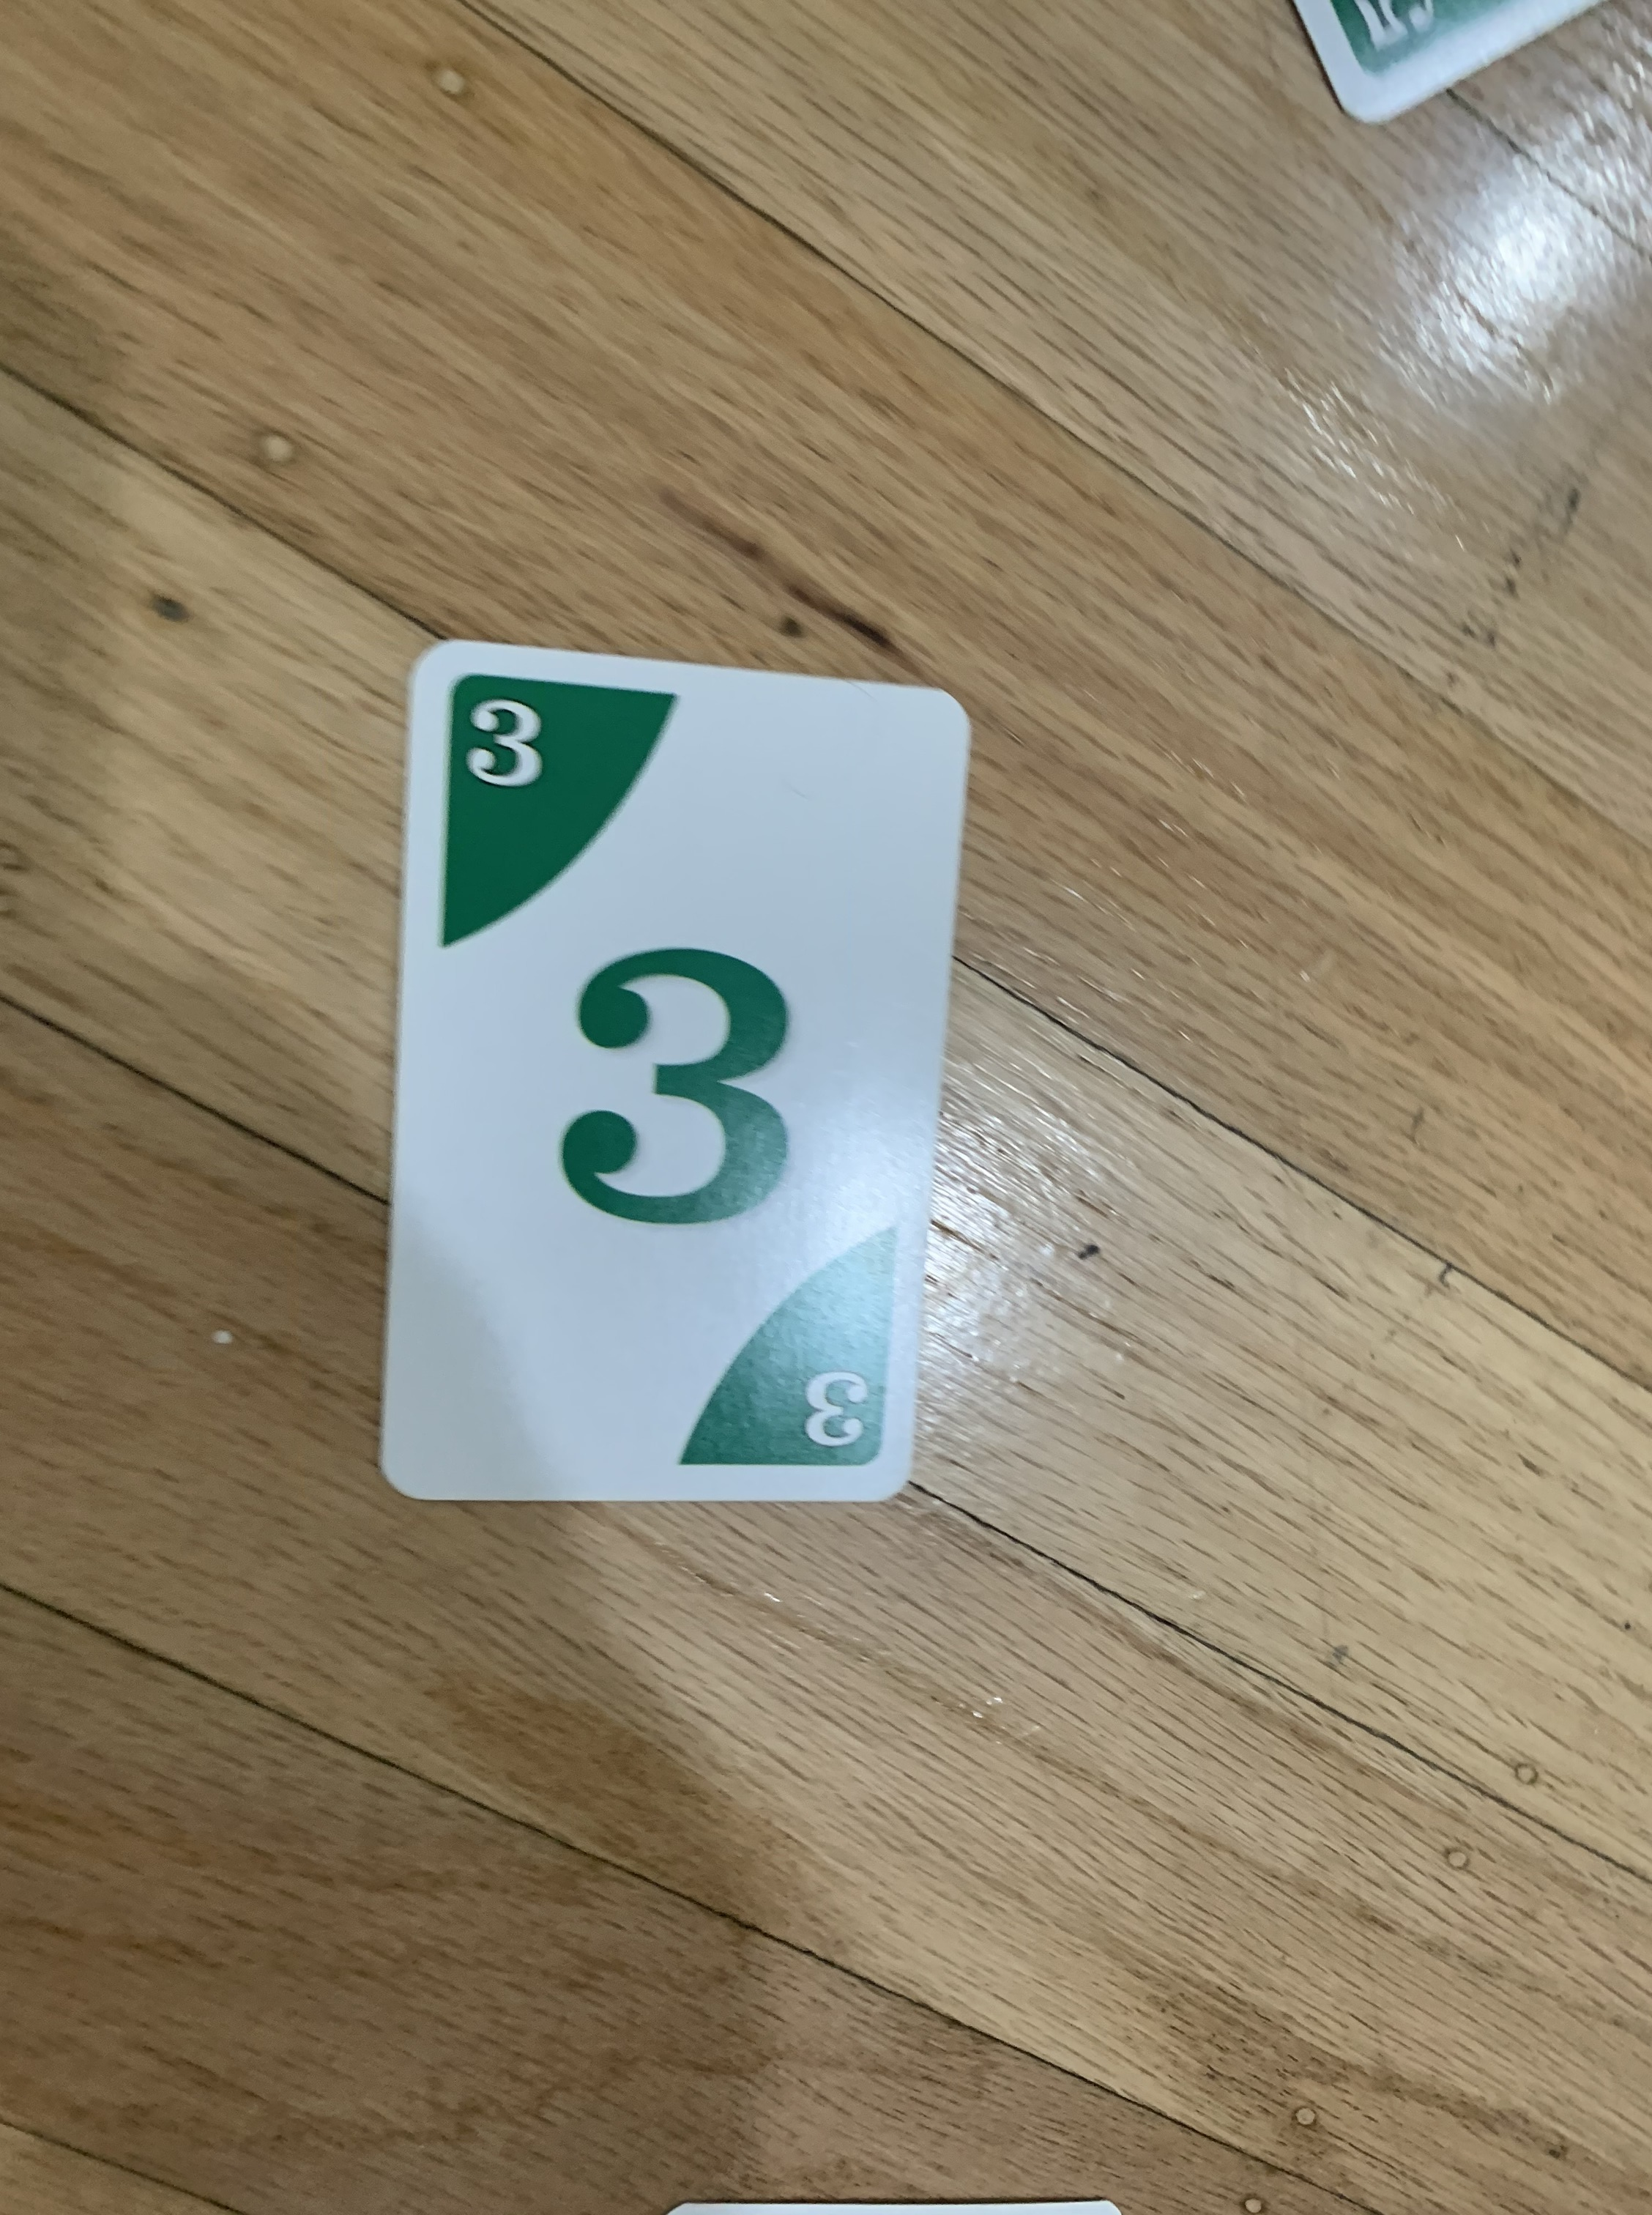three: (364, 628, 975, 1521)
